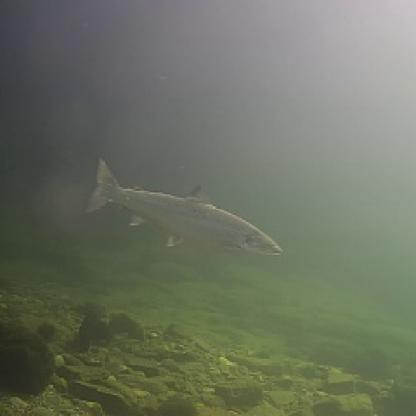salmon: (83, 153, 284, 258)
